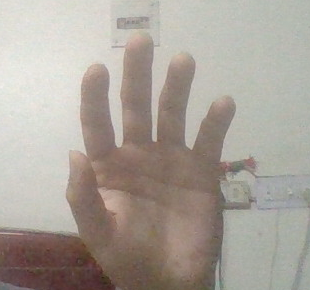move: (63, 28, 241, 280)
